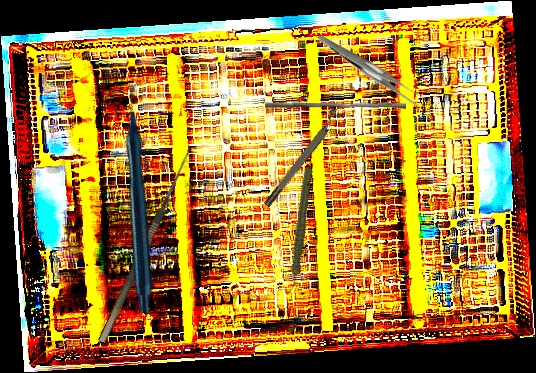Dressing Forceps: (316, 8, 428, 130)
Fixation Ring: (258, 106, 346, 209)
Handpiece: (32, 78, 253, 316), (259, 165, 338, 296)
Hook Surgical: (87, 142, 195, 344)
Pusher: (264, 97, 407, 114)
